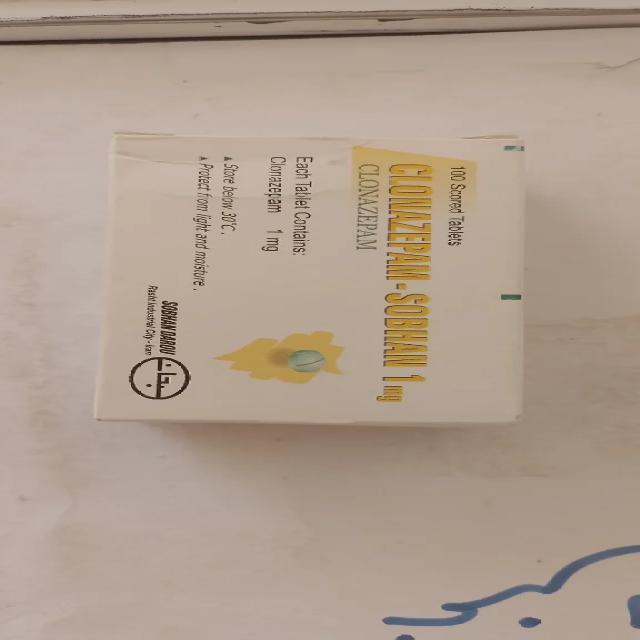drug-name: (382, 160, 435, 370)
